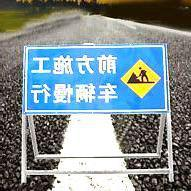sign: (23, 46, 170, 113)
